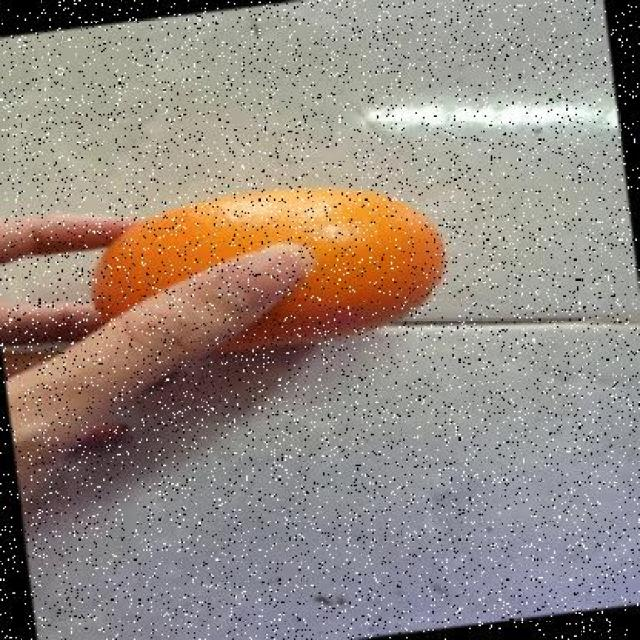Orange: (89, 184, 446, 356)
